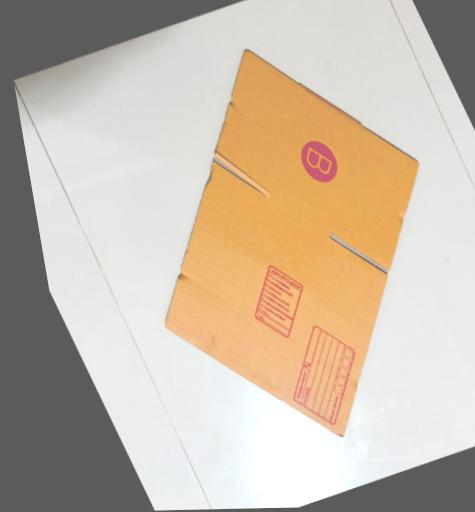box: (40, 10, 475, 482)
class0: (256, 316, 397, 439), (231, 260, 323, 346), (287, 136, 347, 192)
